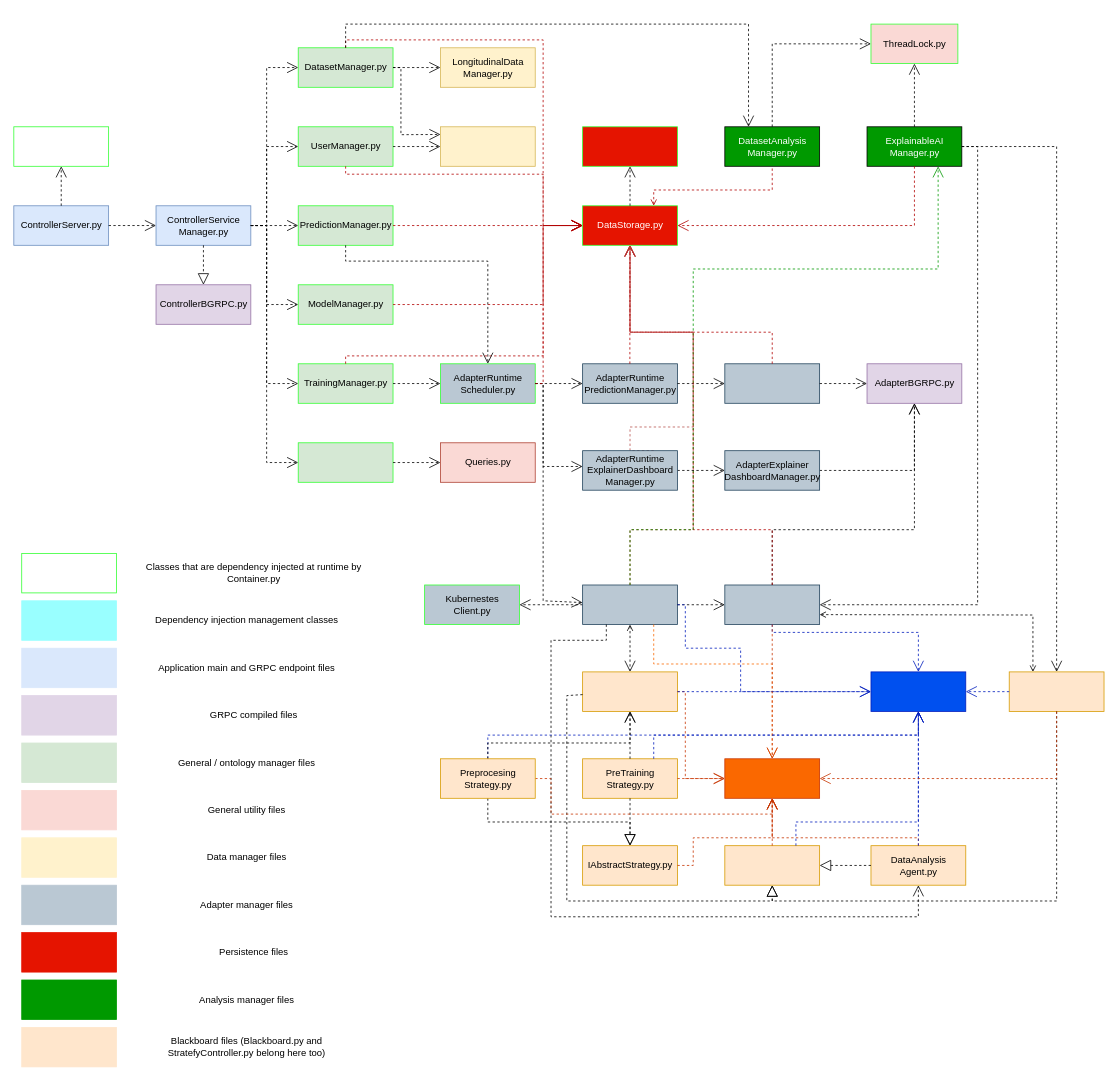
This 1118x1081 diagram has some shape labels left out. The centre of each missing label's shape, as x and y in pixels:
AdapterManager Agent.py: the point at 1056,691
AdapterManager.py: the point at 772,604
AdapterPrediction Manager.py: the point at 772,383
AdapterRuntime Manager.py: the point at 629,604
AdapterRuntime ManagerAgent.py: the point at 629,691
Blackboard.py: the point at 918,691
Container.py: the point at 61,146
CsvManager.py: the point at 487,146
IAbstractBlackboard Agent.py: the point at 772,865
MongoDbClient.py: the point at 629,146
OntologyManager.py: the point at 345,462
StrategyController.py: the point at 772,778
